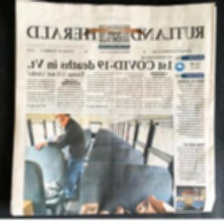news_paper: (8, 0, 220, 217)
